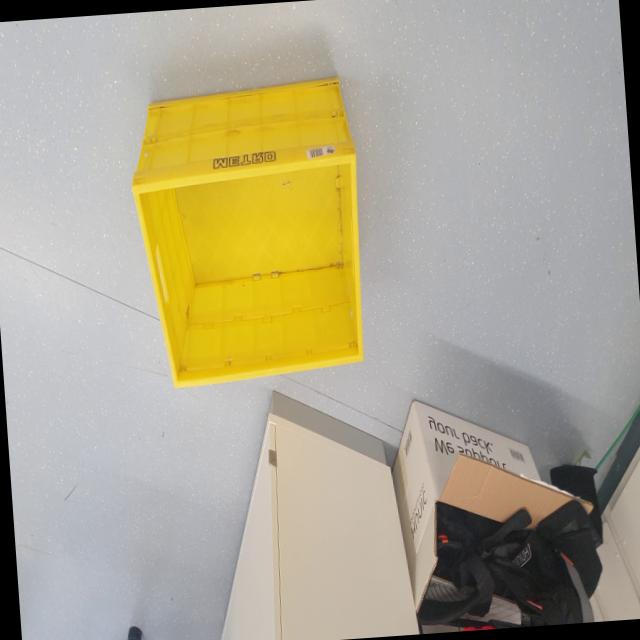box: (122, 41, 380, 408)
